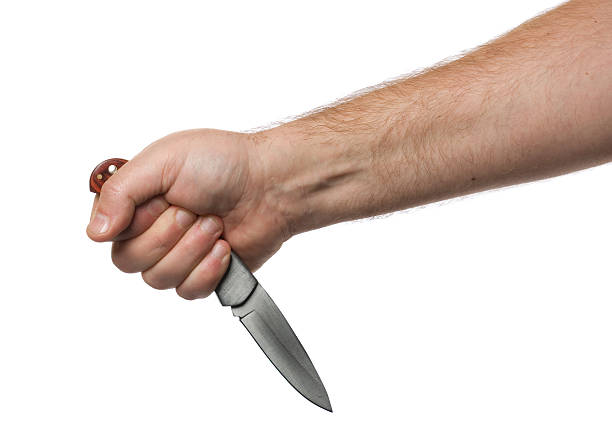knife: (89, 157, 333, 415)
